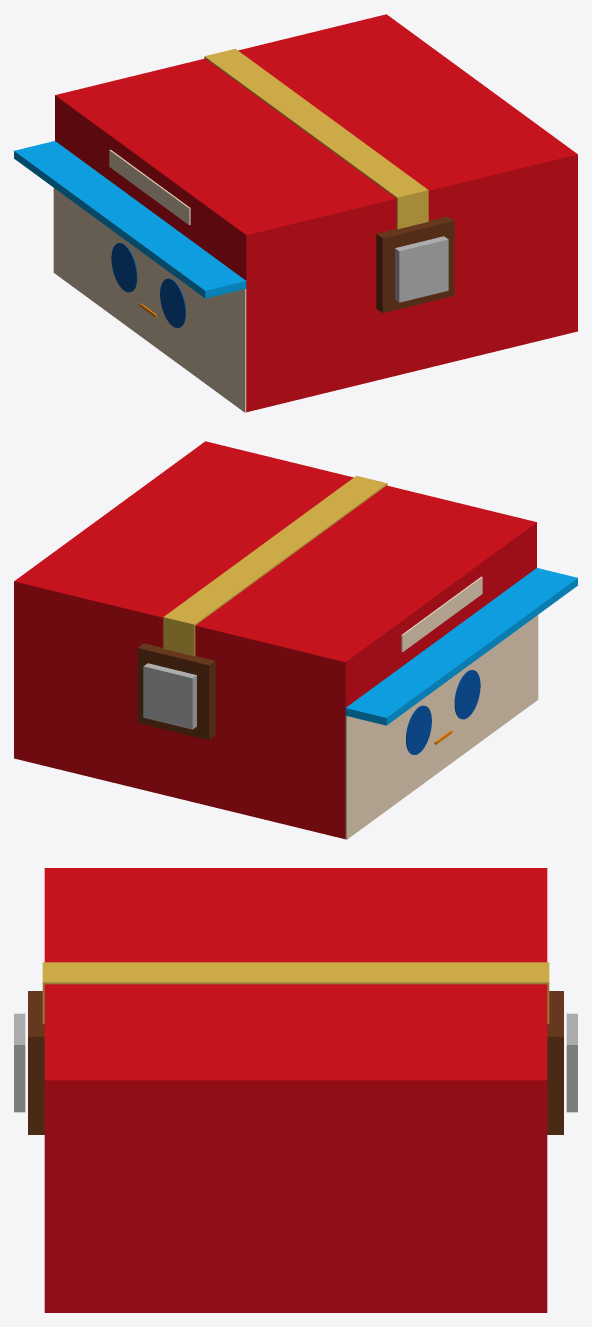
The model's file is hat.fbx.
The picture shows the model from 3 angles, top to bottom: view 1: azimuth 30°, elevation 25°; view 2: azimuth 150°, elevation 25°; view 3: azimuth 270°, elevation 25°; orthographic projection. The views are drawn at different scales.
Parts seen in each view (by area): view 1: red, rou, blue, yellow, browmn, GREY, deep blue; view 2: red, rou, blue, yellow, browmn, GREY, deep blue; view 3: red, yellow, browmn, GREY.
Part boxes in pixels (x1=…): red: x1=55, y1=14, x2=577, y2=412; rou: x1=53, y1=149, x2=246, y2=412; blue: x1=14, y1=141, x2=246, y2=298; yellow: x1=204, y1=48, x2=428, y2=229; browmn: x1=376, y1=216, x2=454, y2=312; GREY: x1=395, y1=236, x2=448, y2=302; deep blue: x1=111, y1=243, x2=185, y2=327; red: x1=14, y1=441, x2=536, y2=839; rou: x1=345, y1=576, x2=538, y2=839; blue: x1=345, y1=568, x2=577, y2=725; yellow: x1=163, y1=475, x2=387, y2=656; browmn: x1=137, y1=643, x2=215, y2=739; GREY: x1=143, y1=663, x2=196, y2=729; deep blue: x1=406, y1=670, x2=480, y2=754; red: x1=44, y1=868, x2=547, y2=1312; yellow: x1=42, y1=962, x2=549, y2=1023; browmn: x1=28, y1=991, x2=563, y2=1134; GREY: x1=14, y1=1013, x2=577, y2=1112.
Bounding box in the file's own units: 3303 × 1513 × 3299.
